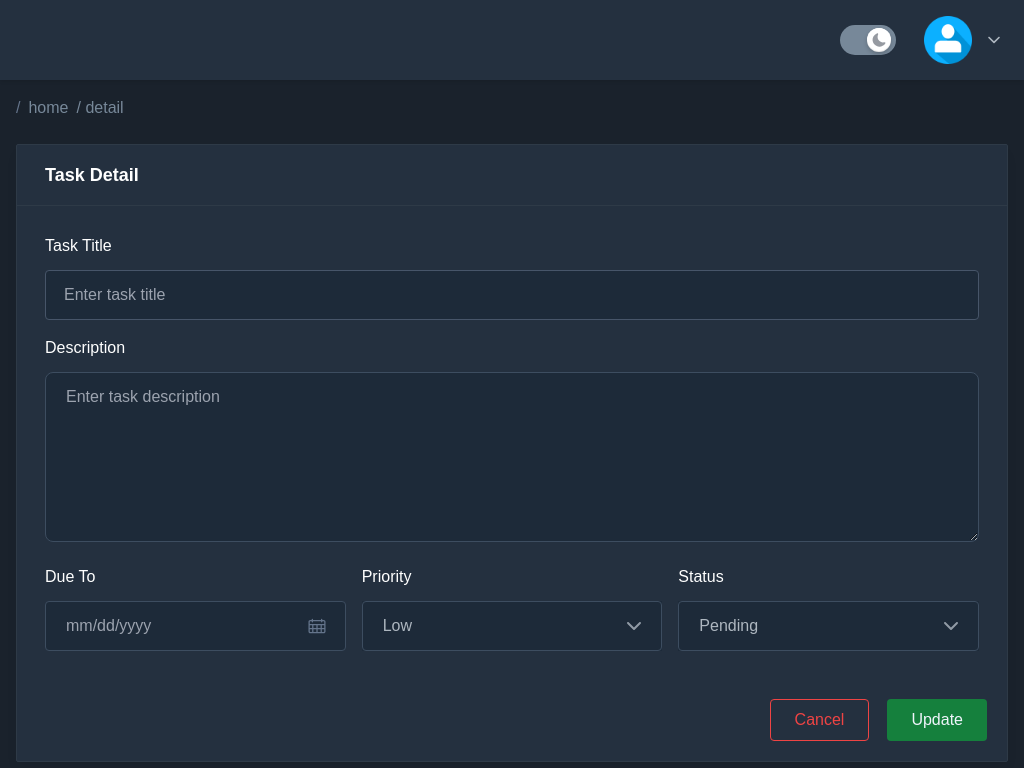
it: TaskDetail Component › validates description input
In the text box with placeholder "Enter task description": (512, 457) [45, 372, 979, 542], type "Test"
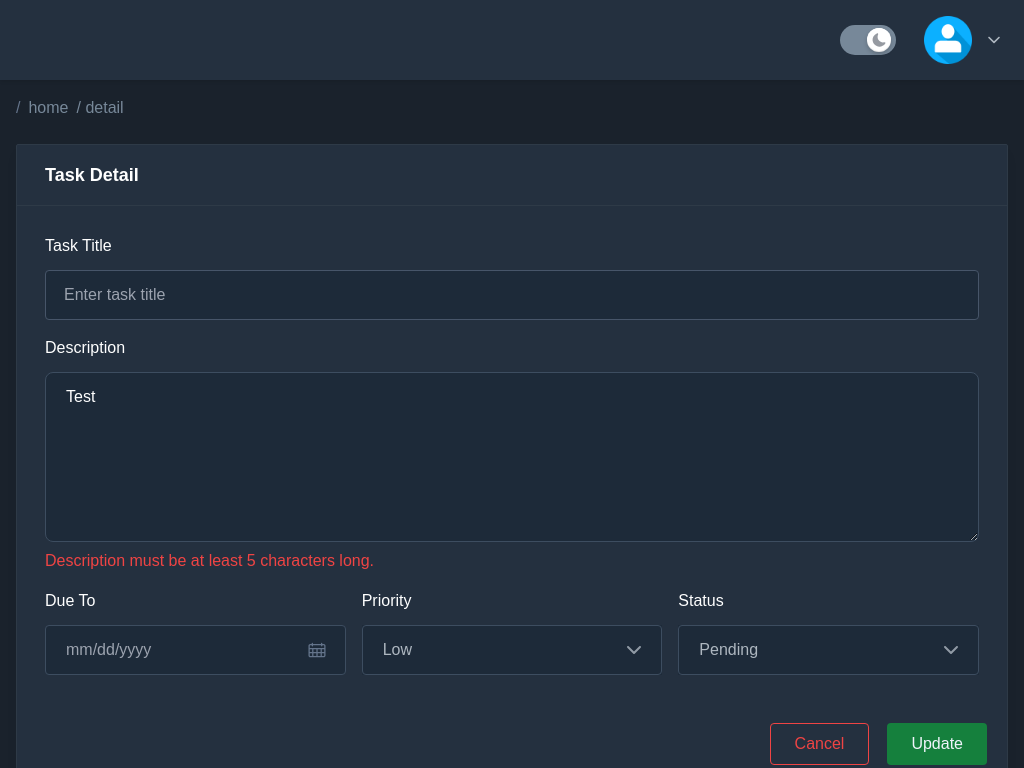
Now the text "Description must be at least 5 characters long." is shown, box [45, 552, 374, 569]
Replace the text in the text box with placeholder "Enter task description" with "Test Description": (512, 457) [45, 372, 979, 542]
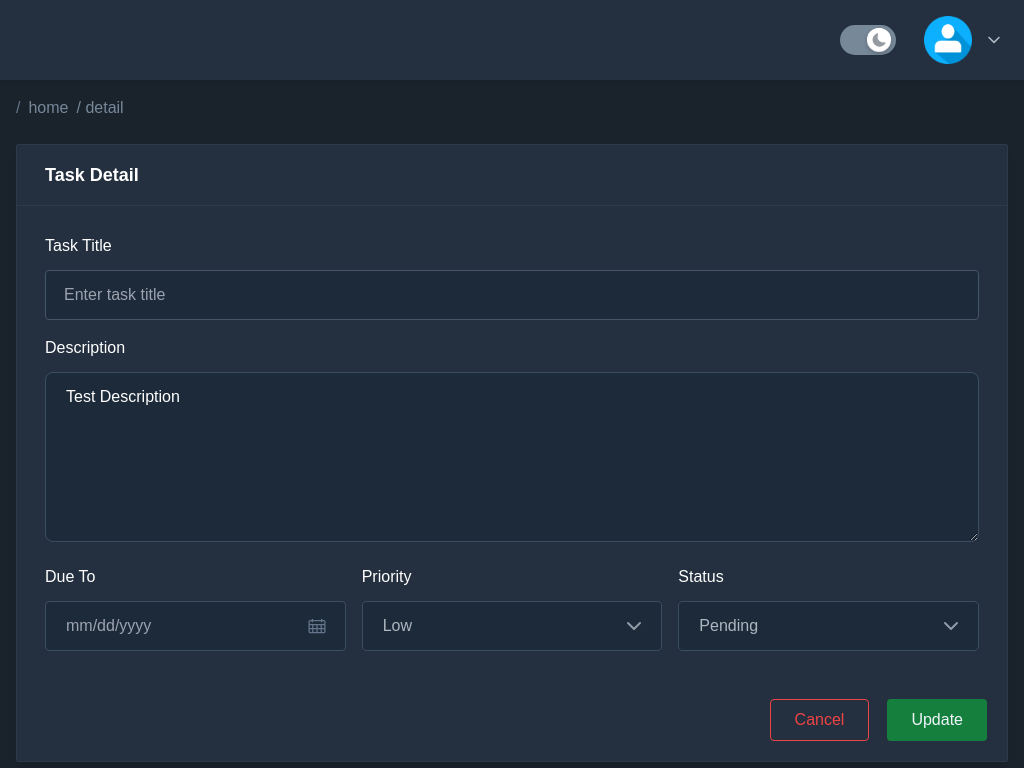
Now the text "Description must be at least 5 characters long" is gone
